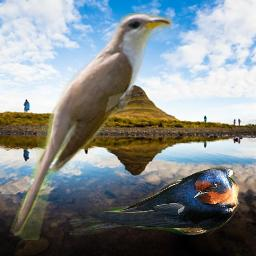Cuckoo: (8, 13, 172, 240)
Swallow: (69, 166, 241, 235)
